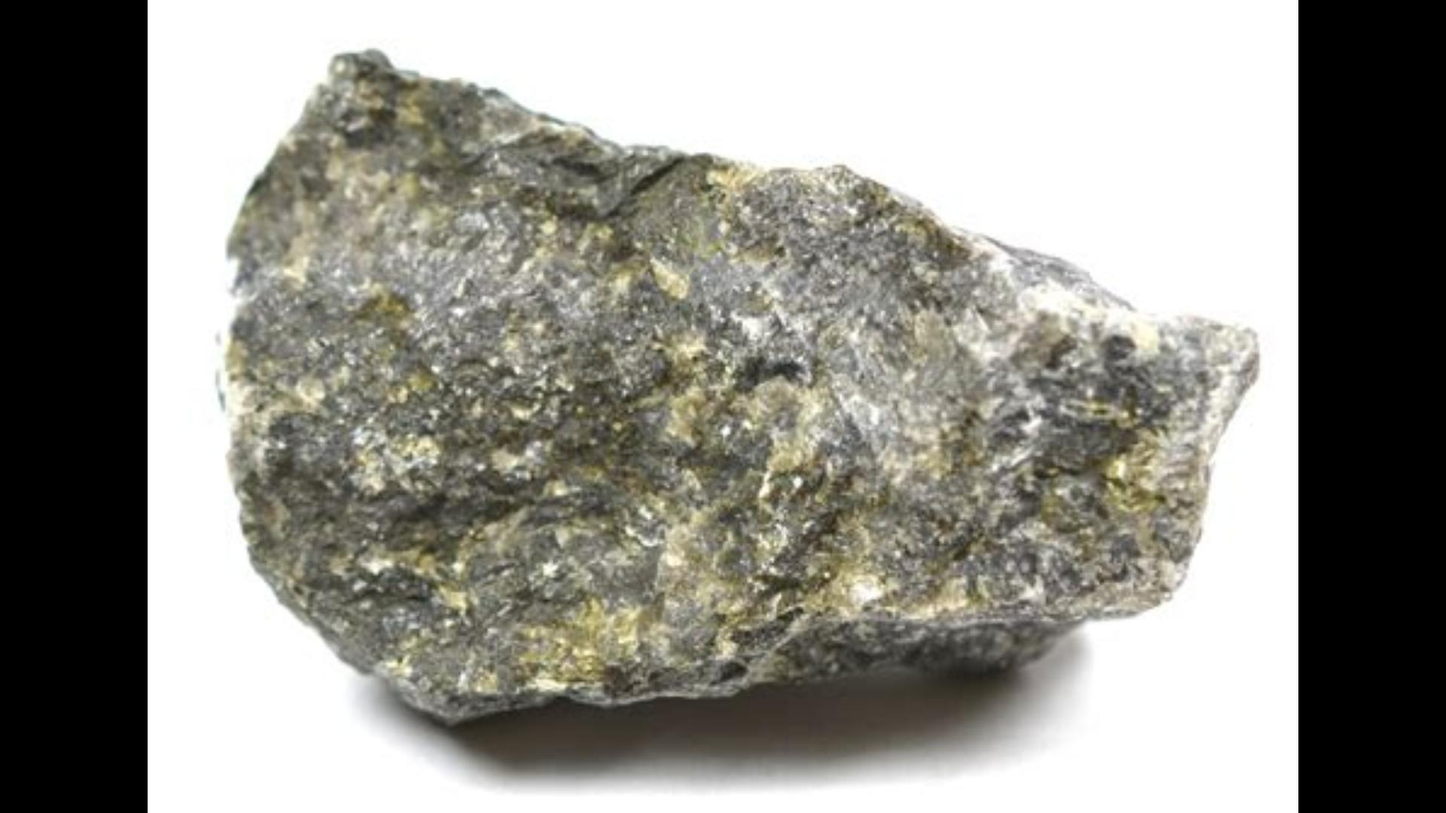rock: (230, 53, 1255, 721)
